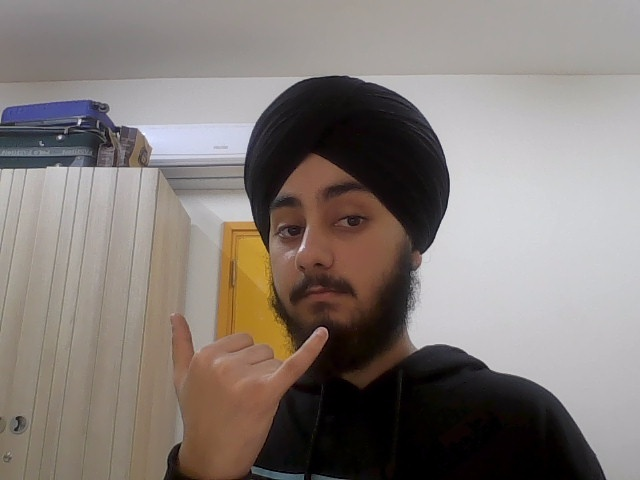Wrong: (166, 305, 330, 477)
